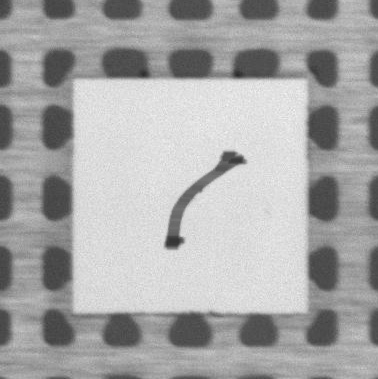DIE_INK: (160, 150, 246, 250)
